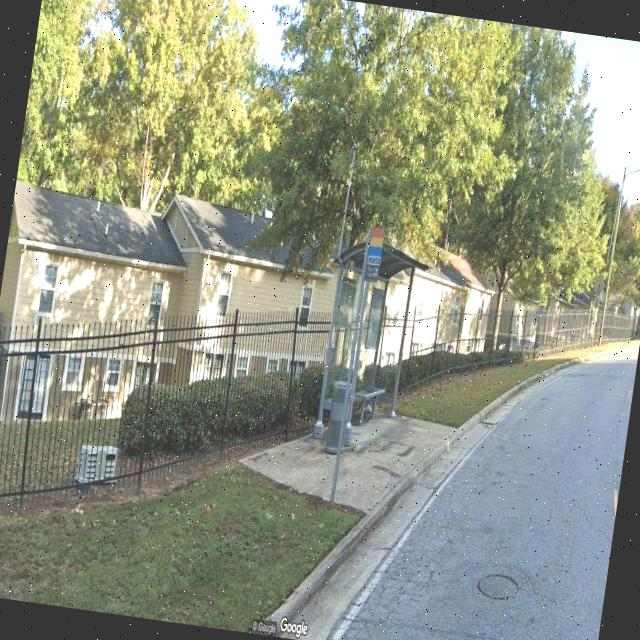seating: (348, 381, 388, 428)
shelter: (309, 232, 436, 452)
trash_can: (324, 380, 353, 456)
